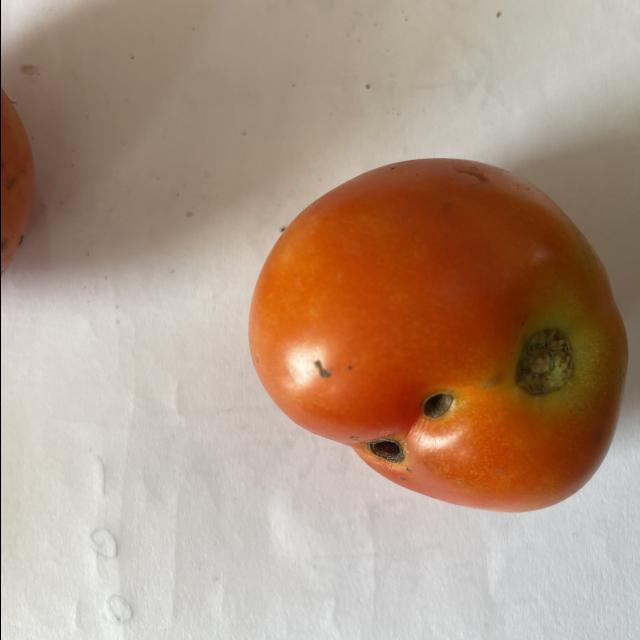fruitworm_bore: (356, 386, 472, 484)
